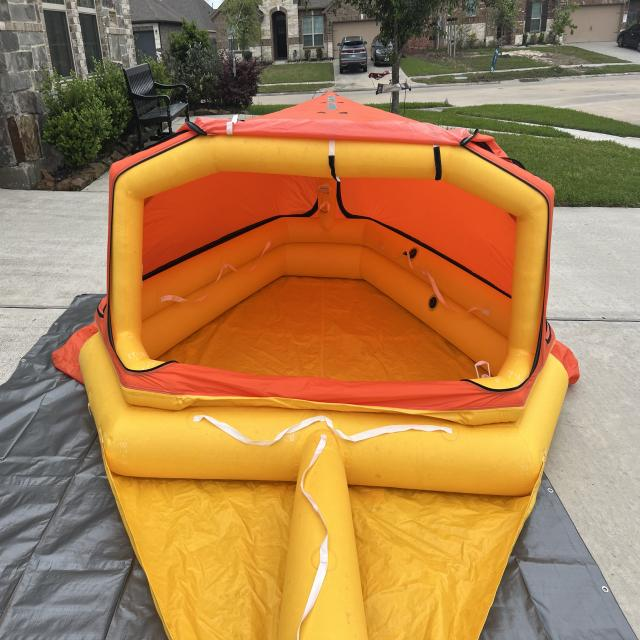Multi-person_life_raft: (51, 91, 580, 638)
